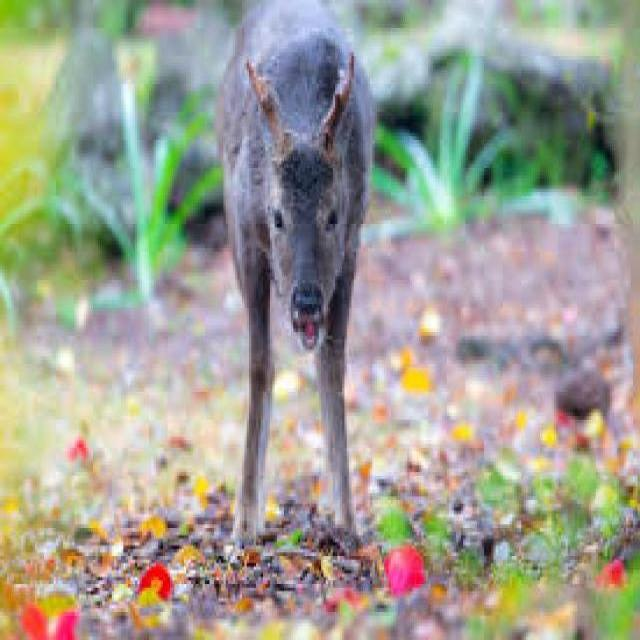deer: (218, 0, 384, 553)
